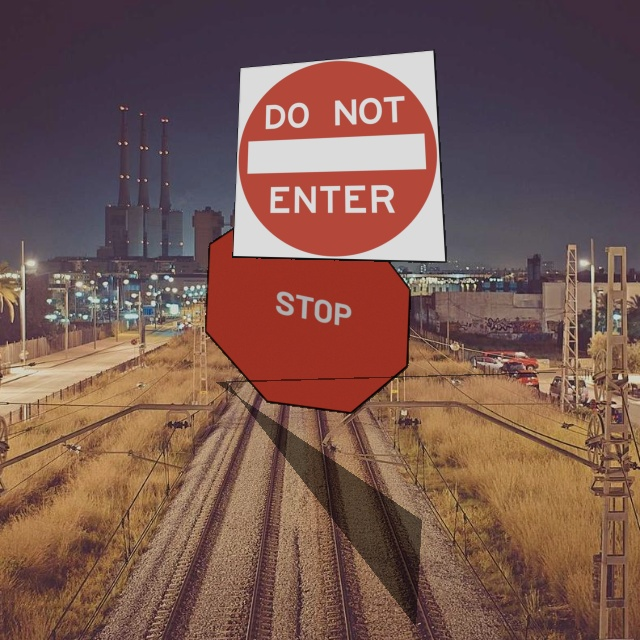DO_NOT_ENTER: (232, 49, 447, 263)
STOP: (204, 199, 411, 414)
